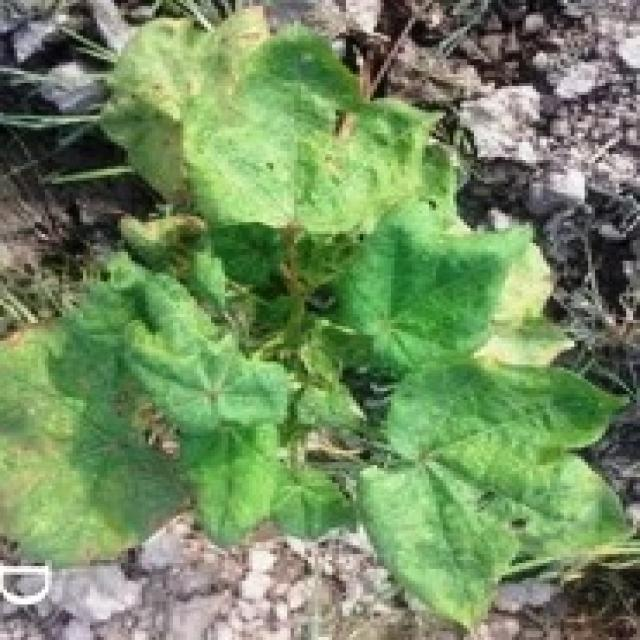Leaf Curl Virus: (155, 93, 491, 474)
